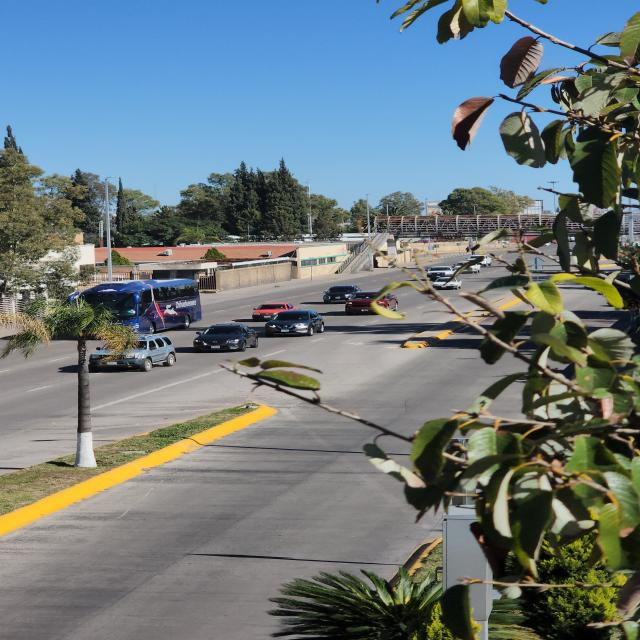Auto: (192, 323, 254, 353), (262, 308, 324, 337), (131, 334, 179, 366), (94, 354, 151, 375), (251, 302, 296, 318), (347, 294, 380, 315), (324, 285, 360, 303)
Autobus: (67, 277, 205, 334)
